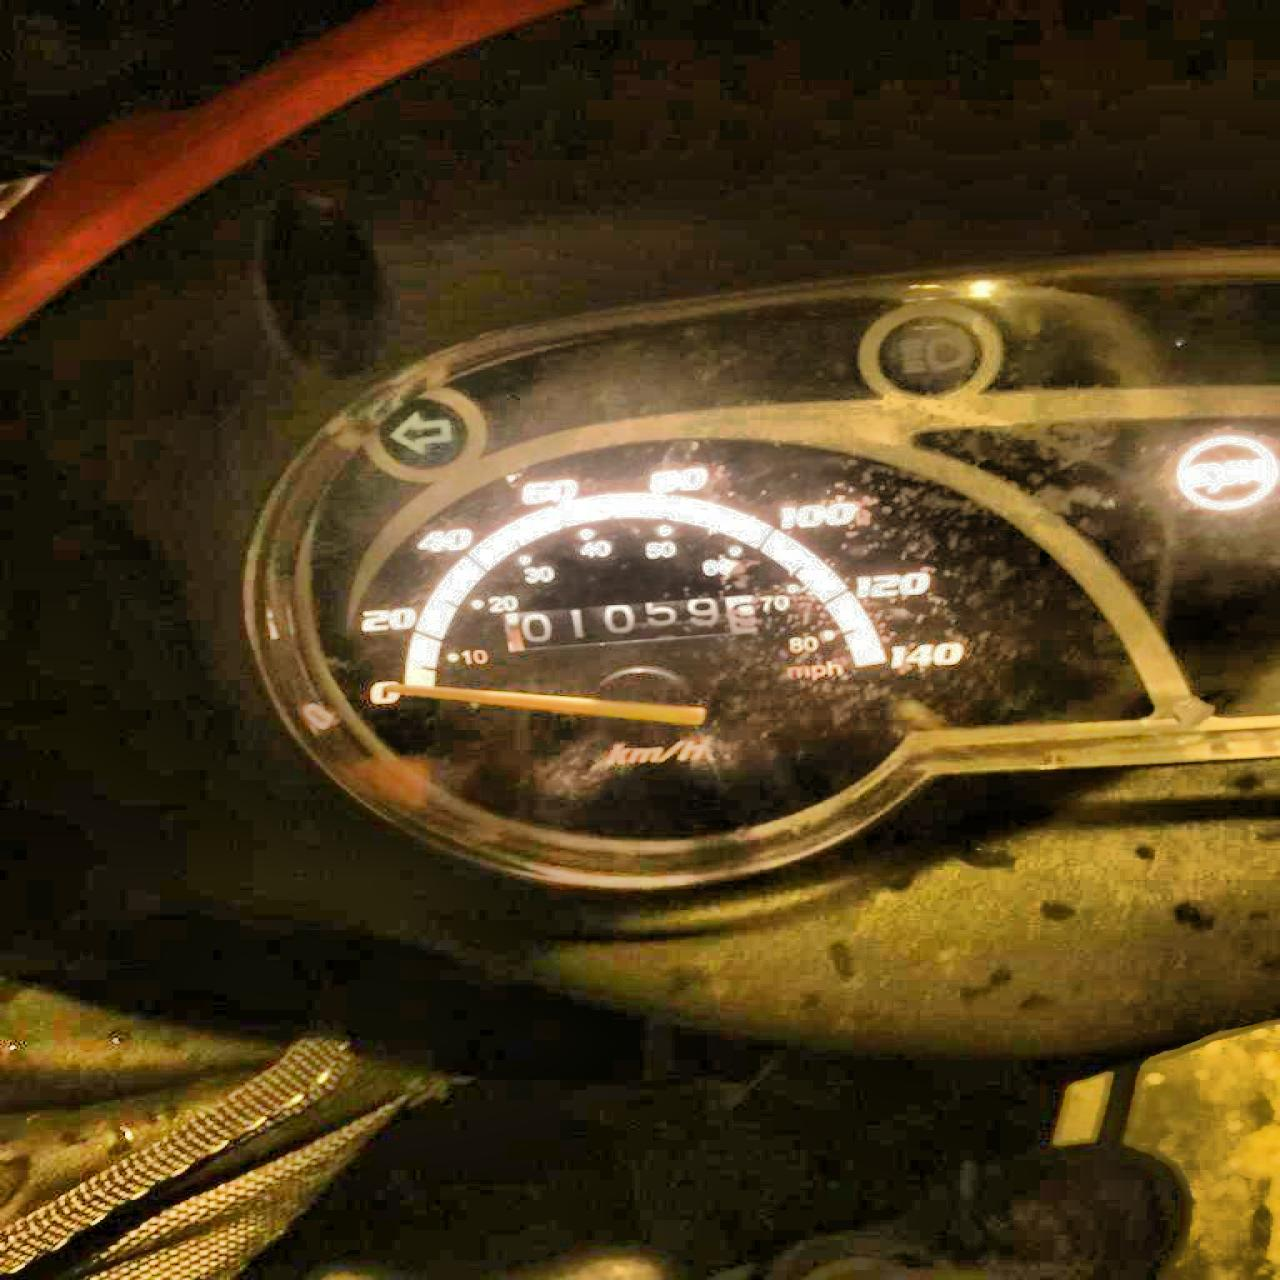0: (518, 610, 552, 642), (600, 604, 635, 635), (502, 594, 518, 610)
1: (564, 605, 587, 640)
5: (640, 600, 676, 628)
9: (682, 597, 720, 627), (728, 601, 757, 629)
odometer: (496, 587, 762, 654)
